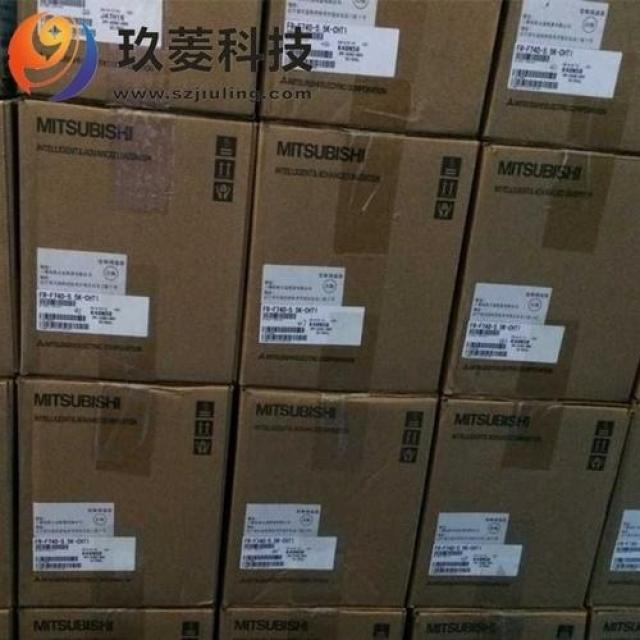box: (16, 98, 256, 386), (239, 123, 481, 395), (442, 139, 639, 403), (18, 379, 237, 608), (218, 391, 439, 607), (408, 397, 632, 607), (263, 0, 503, 137), (14, 1, 266, 121), (480, 1, 639, 156), (587, 394, 639, 608), (15, 608, 216, 638), (216, 608, 404, 639), (406, 608, 586, 639), (586, 608, 638, 639)
